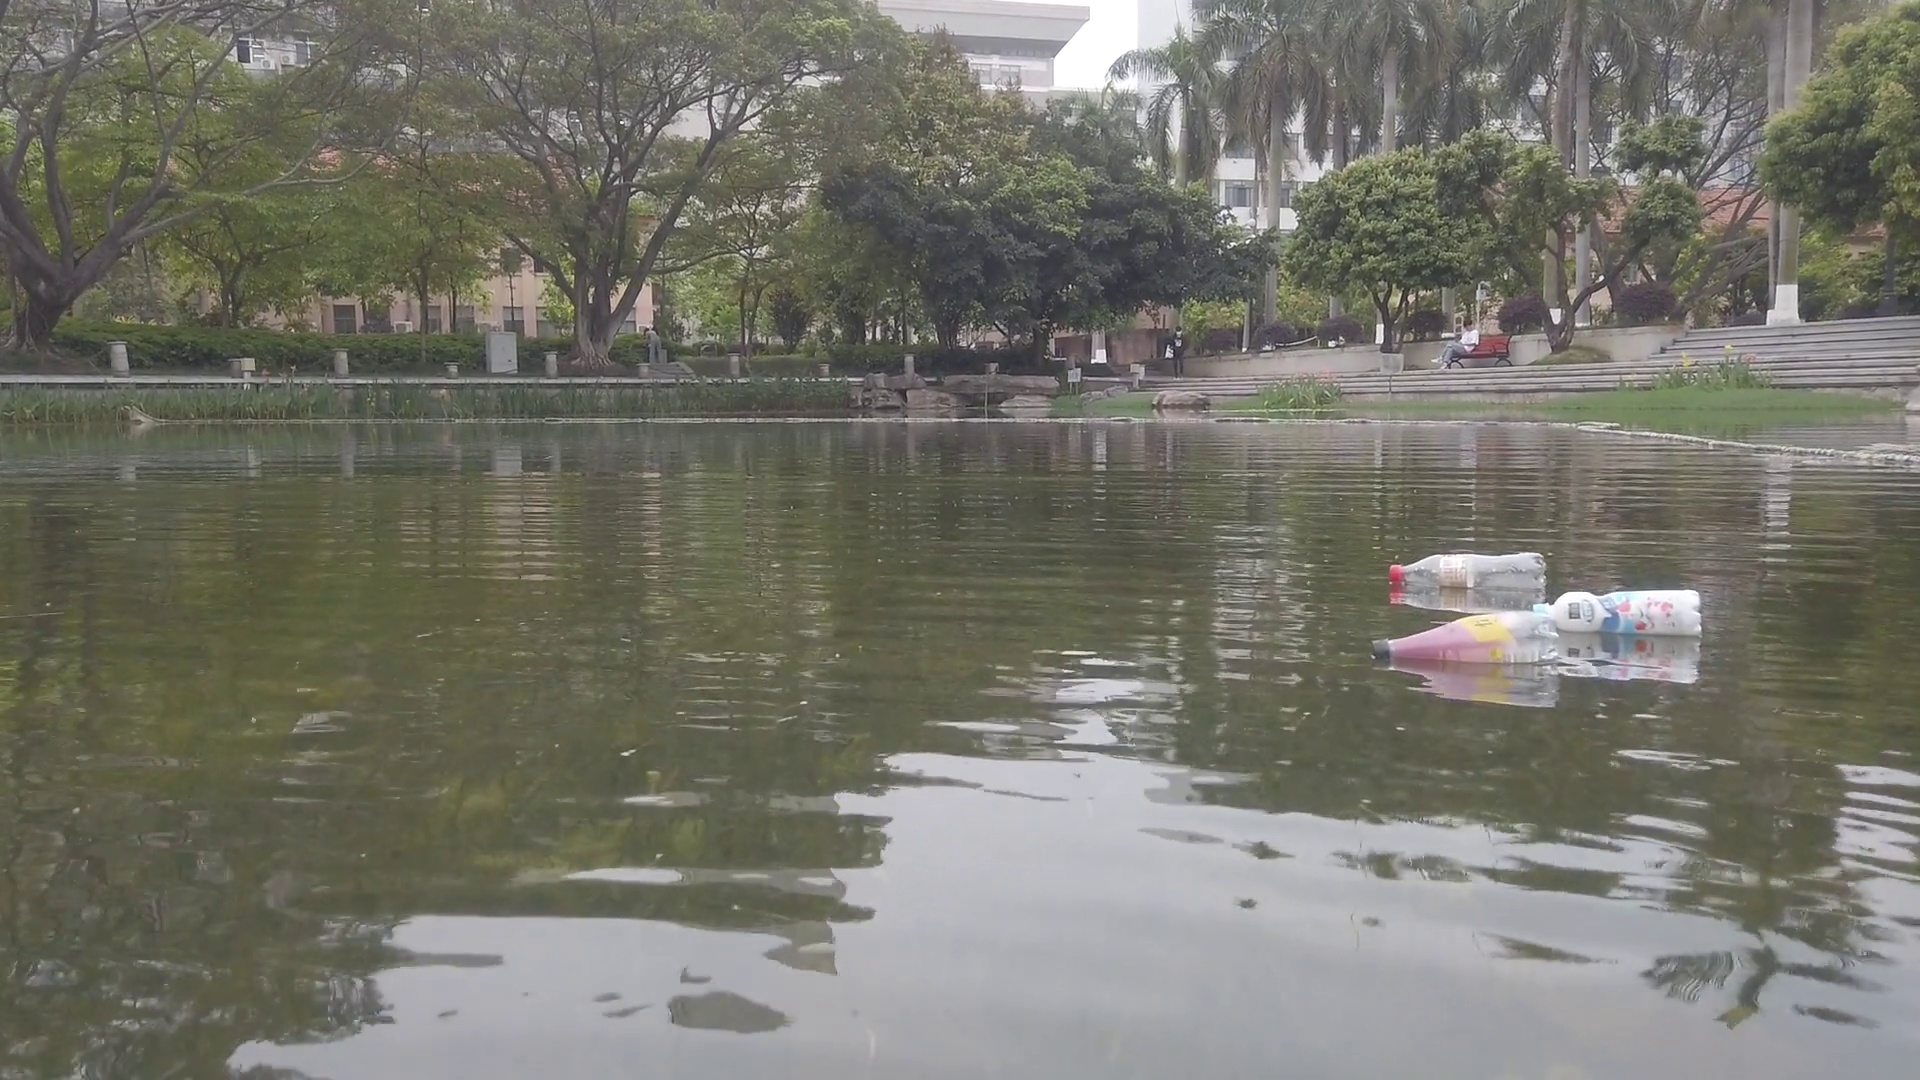bottle: (1534, 585, 1709, 640), (1370, 613, 1563, 662), (1389, 551, 1551, 589)
